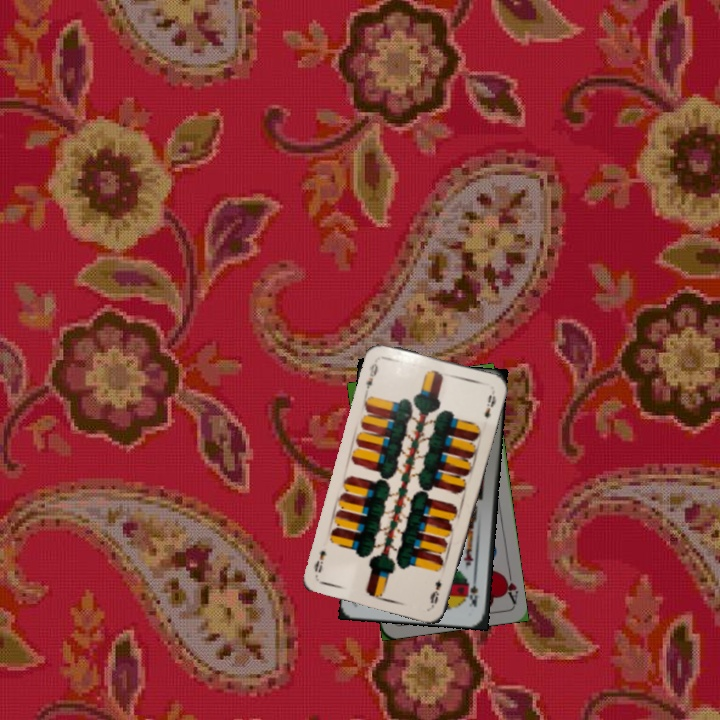E9: (425, 576, 444, 609), (362, 359, 381, 391)
HA: (498, 566, 521, 606)
SK: (464, 572, 480, 610)
